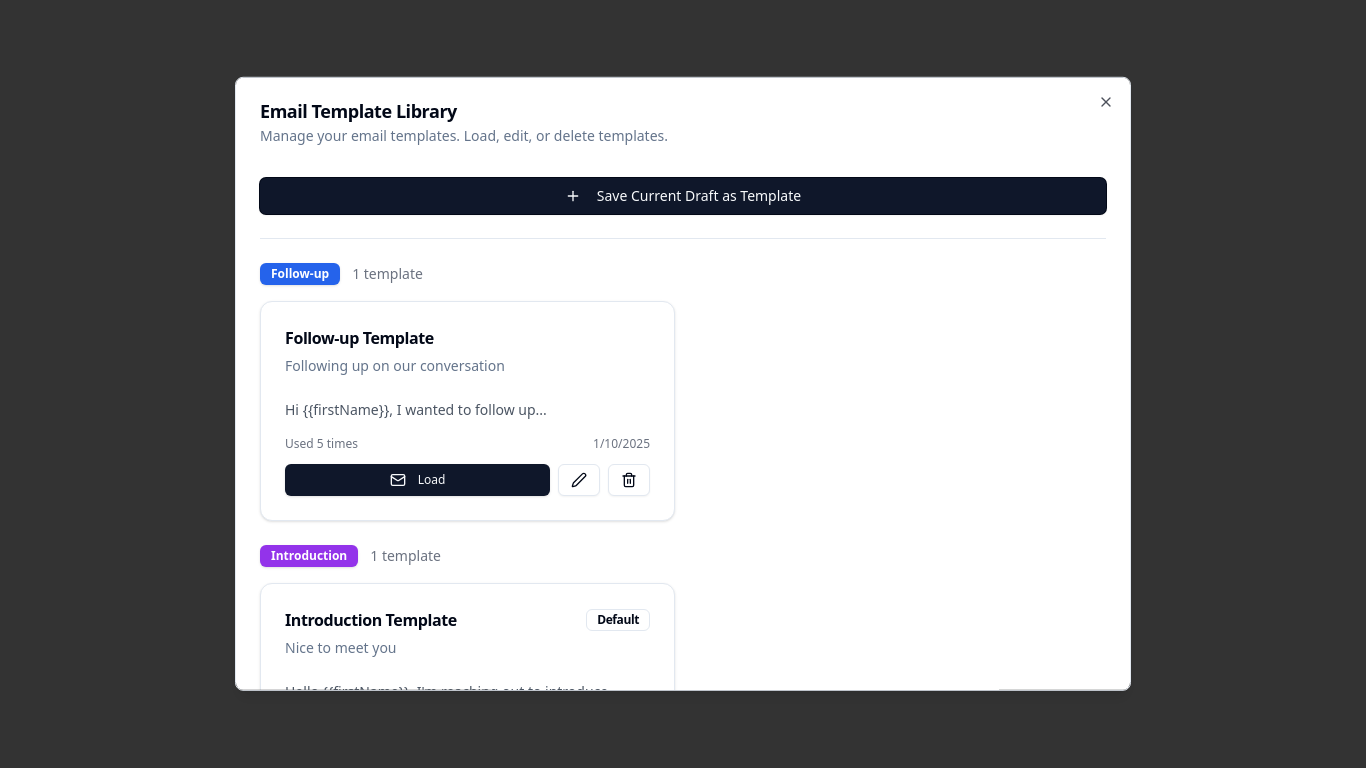
it: TemplateLibrary › 20.7 Save as Template › should pre-fill form with default values
Click the button "Save Current Draft as Template" at (683, 196), box x1=260 y1=178 x2=1106 y2=214
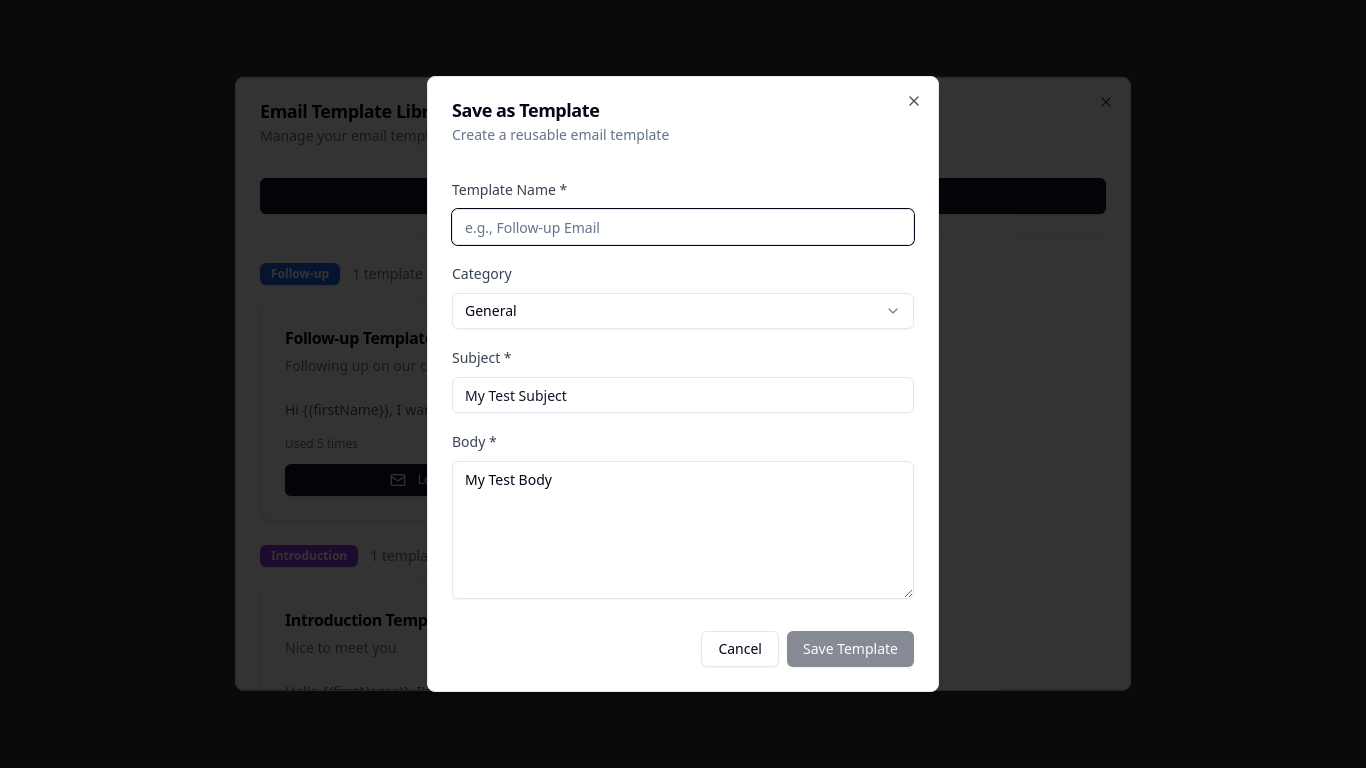
Expected: the field labelled "Subject *" holds "My Test Subject", x1=452 y1=377 x2=914 y2=413
Expected: the text box labelled "Body *" holds "My Test Body", x1=452 y1=461 x2=914 y2=599
